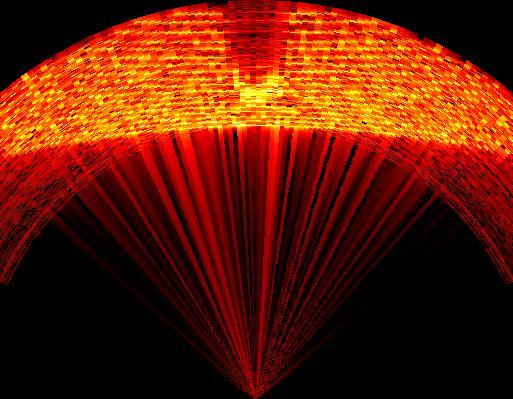box_crate: (211, 3, 286, 82)
